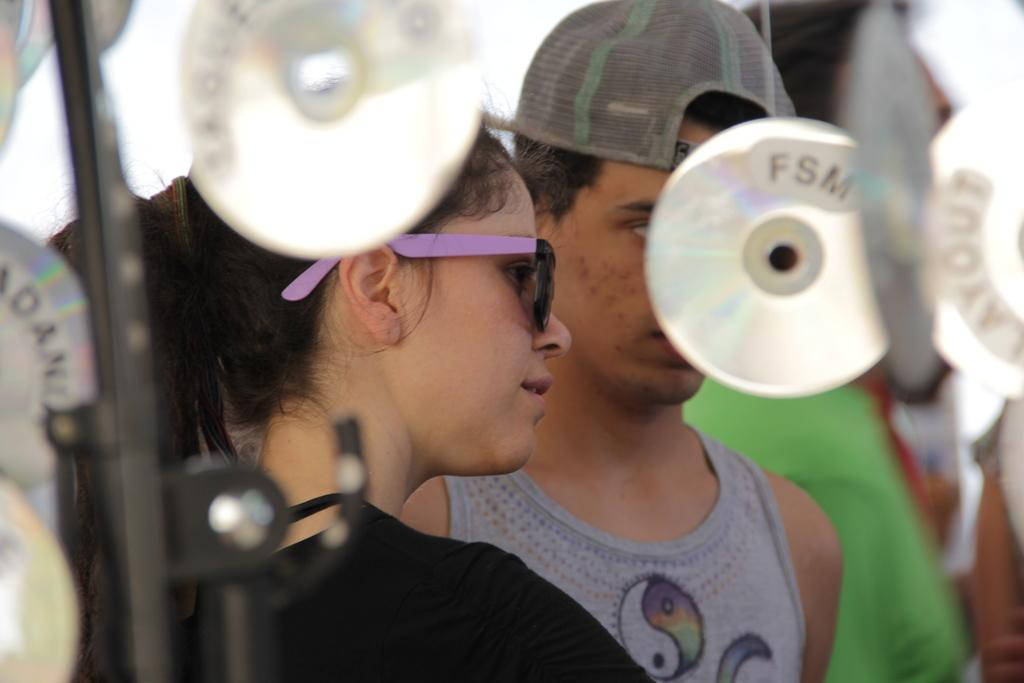Hat: (478, 0, 802, 172)
